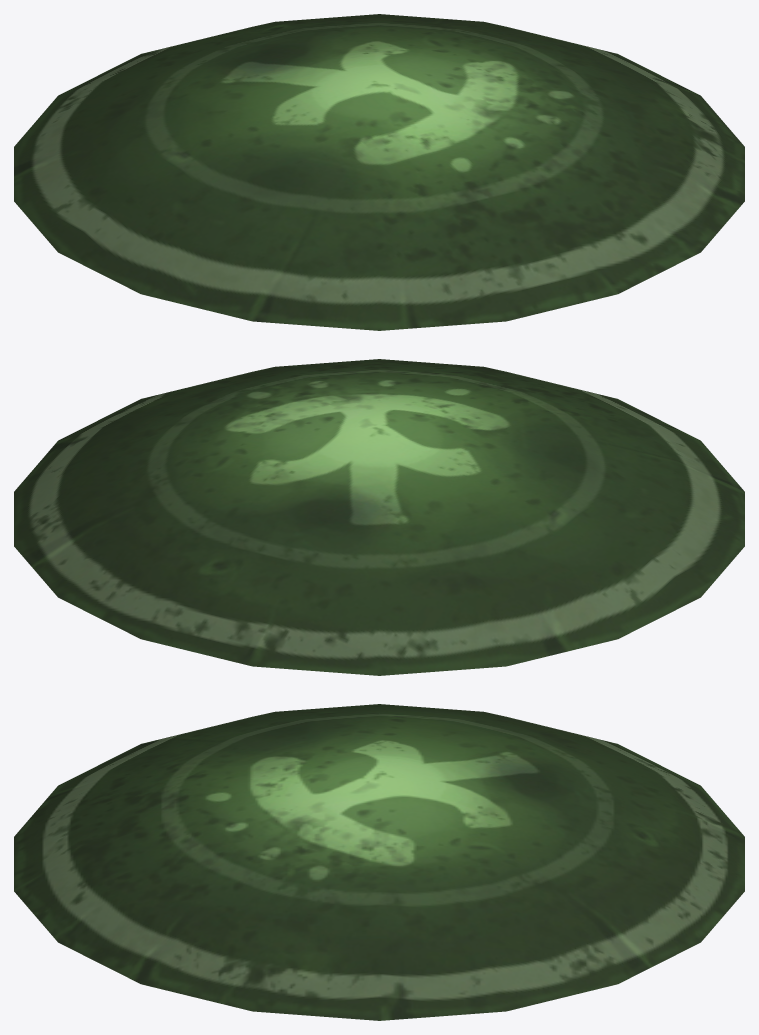
File: Shield1.FBX
3 renders of one model, top to bottom at view 1: azimuth 30°, elevation 25°; view 2: azimuth 150°, elevation 25°; view 3: azimuth 270°, elevation 25°, orthographic.
Parts seen in each view (by area): view 1: Cylinder006; view 2: Cylinder006; view 3: Cylinder006.
Part boxes in pixels (bbox=[...]): Cylinder006: bbox=[14, 14, 744, 330]; Cylinder006: bbox=[14, 359, 744, 675]; Cylinder006: bbox=[14, 704, 744, 1020].
Size of the model in its own units: 195 by 25.89 by 192.
